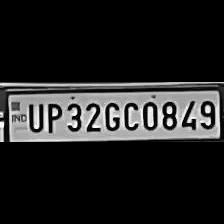0: (138, 97, 158, 131)
2: (82, 99, 102, 134)
3: (62, 99, 82, 133)
4: (178, 96, 198, 130)
8: (158, 97, 178, 130)
9: (196, 97, 216, 129)
C: (121, 98, 139, 132)
G: (102, 98, 120, 132)
P: (42, 99, 62, 133)
U: (25, 100, 43, 132)
